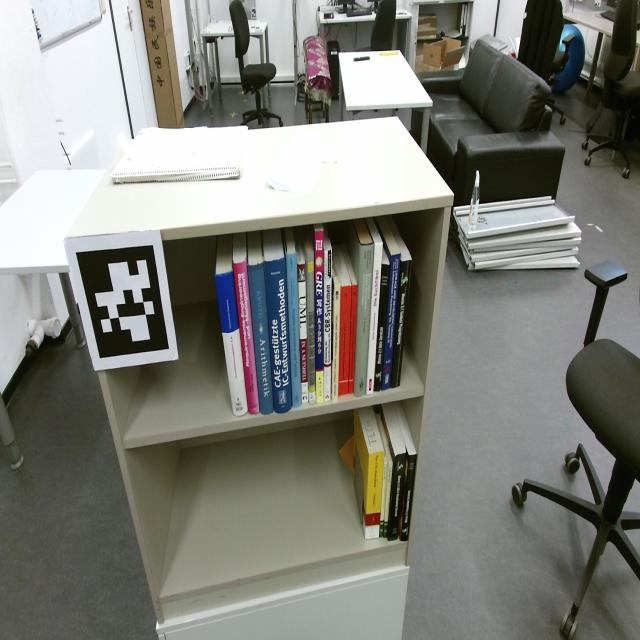Book Spine: (216, 269, 248, 417), (264, 257, 293, 414), (233, 260, 260, 414), (248, 261, 274, 415), (354, 243, 375, 397), (391, 260, 412, 388), (366, 242, 383, 394), (382, 254, 401, 390), (286, 252, 302, 408), (373, 264, 390, 392), (365, 451, 384, 539), (388, 452, 406, 540), (338, 285, 352, 397), (315, 230, 324, 402), (298, 263, 309, 403), (401, 454, 418, 541), (307, 253, 316, 405), (324, 248, 332, 401), (332, 283, 341, 402), (349, 284, 358, 394), (383, 463, 393, 537), (380, 460, 388, 537)
